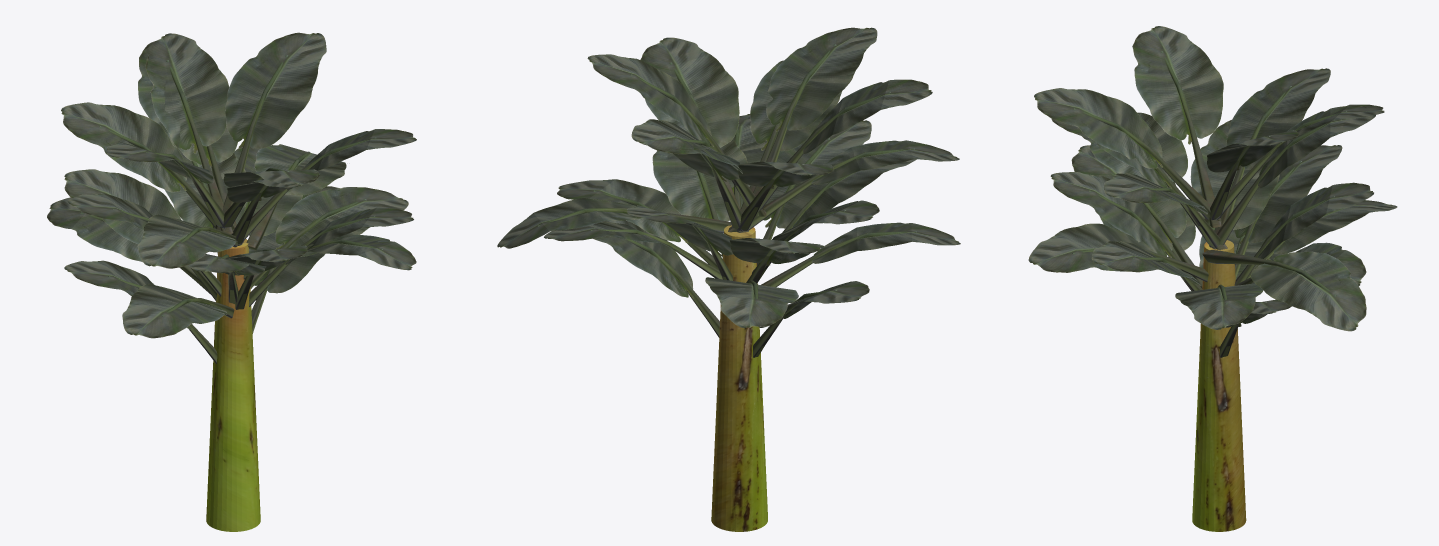
File: Pohon pisang.fbx
The picture shows the model from 3 angles, left to right: view 1: azimuth 30°, elevation 25°; view 2: azimuth 150°, elevation 25°; view 3: azimuth 270°, elevation 25°; orthographic projection. The views are drawn at different scales.
Parts seen in each view (by area): view 1: Pohon pisang; view 2: Pohon pisang; view 3: Pohon pisang.
Boxes of the visible parts, left/top/right/bottom form: Pohon pisang: left=47, top=32, right=416, bottom=531; Pohon pisang: left=497, top=27, right=960, bottom=531; Pohon pisang: left=1028, top=26, right=1397, bottom=531.
Bounding box in the file's own units: 645 × 725 × 636.
Materials: 3 (3 with a texture image).
